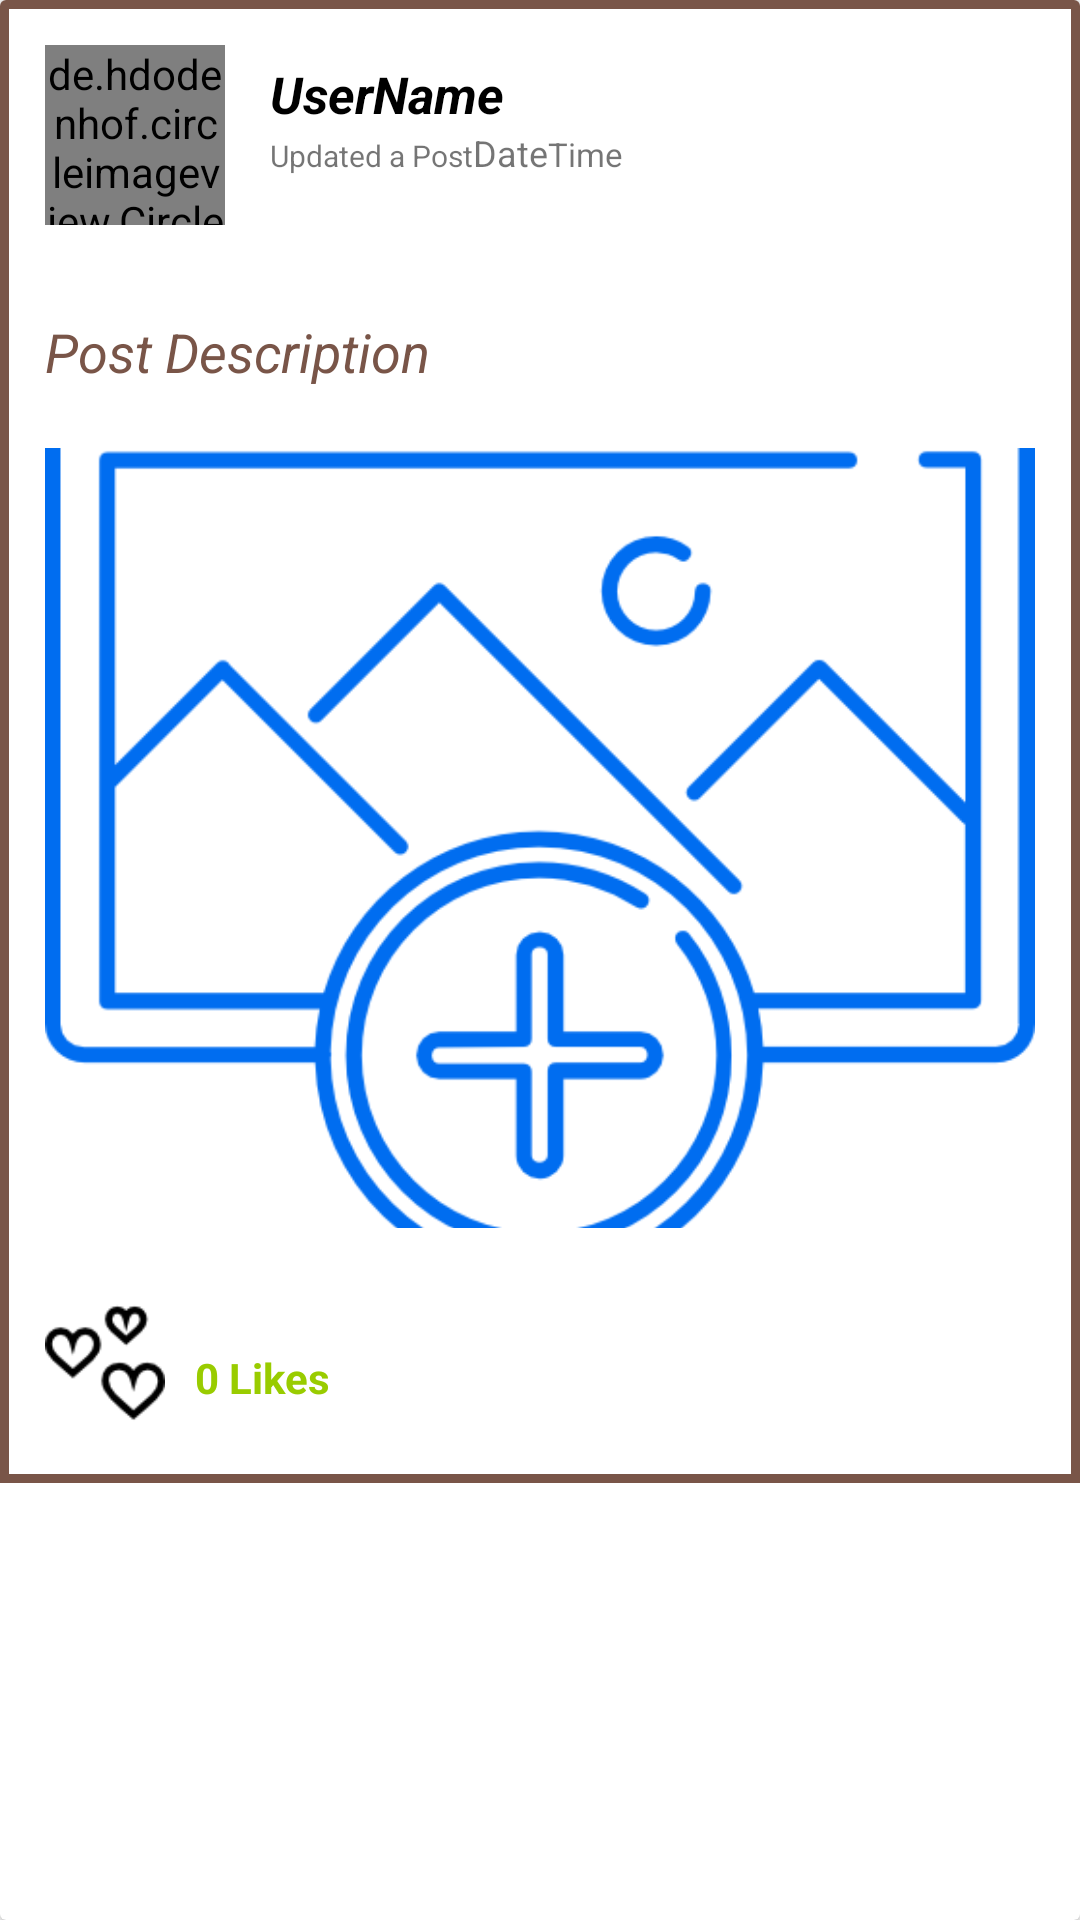

Point at icon controls on the screen. Image size 1080 × 1920, points as point (x, y).
beforelike: point (105, 1363)
